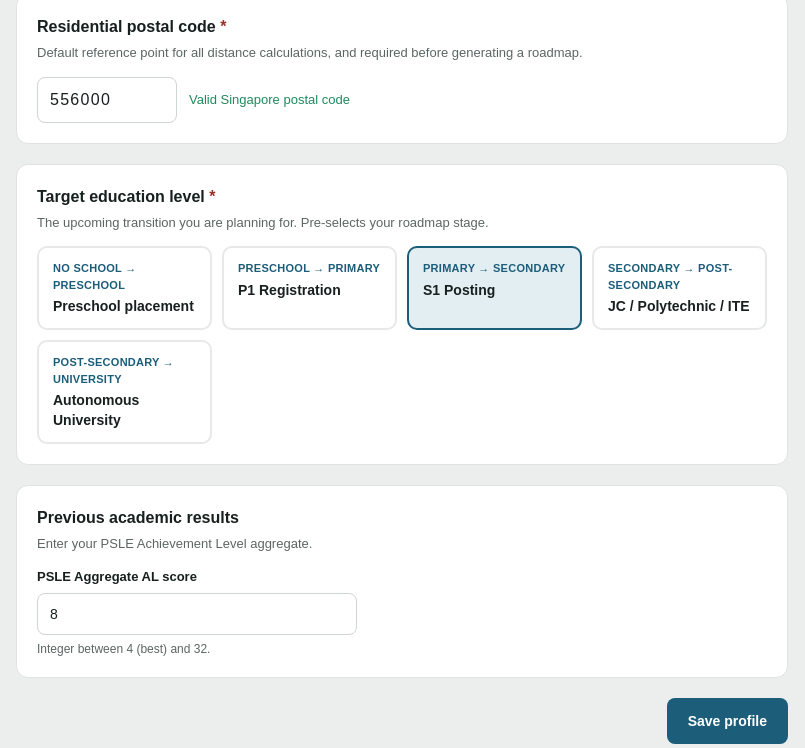
Test: ProfileView (UC-2.4) › saving › stays on the page without a toast when the server refuses the profile
(page scrolled)
Click the button "Save profile": (727, 721) [667, 698, 788, 744]
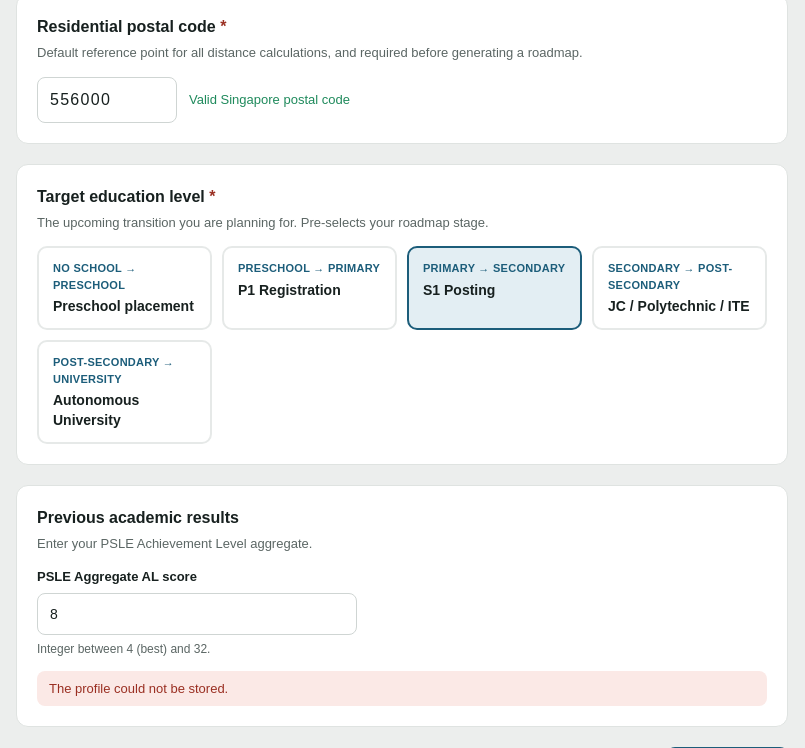
expect the message "The profile could not be stored." is shown: met, box [37, 671, 767, 706]
